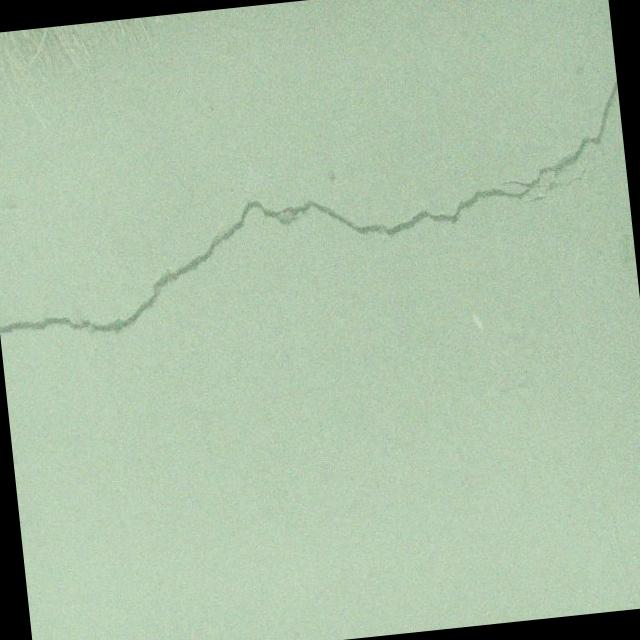crack: (0, 77, 637, 346), (158, 143, 196, 219)
